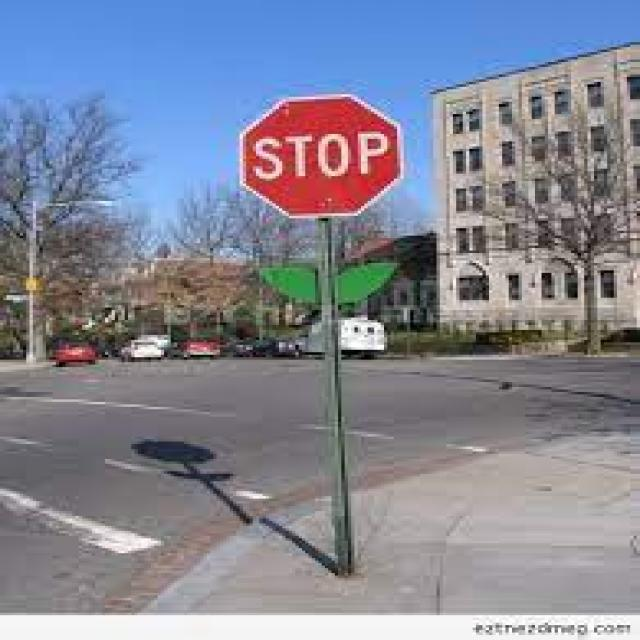stop-sign: (200, 96, 472, 274)
